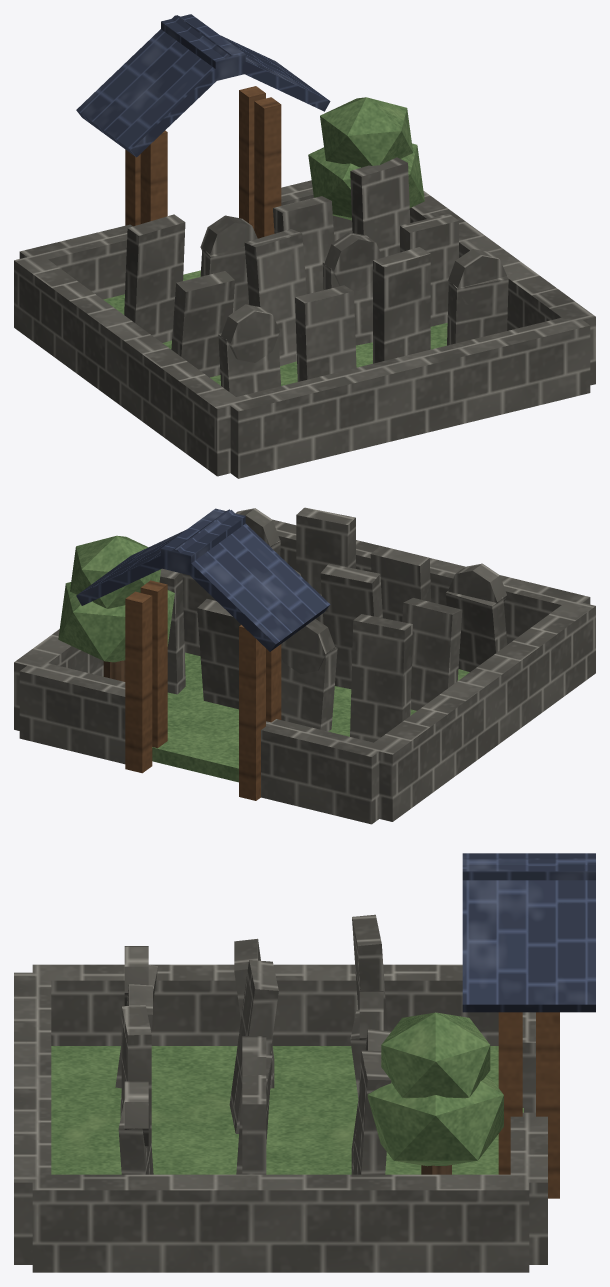
Rendered from cemetery.gltf.
The picture shows the model from 3 angles, top to bottom: view 1: azimuth 30°, elevation 25°; view 2: azimuth 150°, elevation 25°; view 3: azimuth 270°, elevation 25°; orthographic projection. The views are drawn at different scales.
Parts seen in each view (by area): view 1: Cemetery; view 2: Cemetery; view 3: Cemetery.
Part boxes in pixels (left/top/right/bottom): Cemetery: left=14, top=14, right=595, bottom=478; Cemetery: left=14, top=507, right=595, bottom=824; Cemetery: left=14, top=853, right=595, bottom=1272.
Bounding box in the file's own units: 2 × 1.24 × 2.18.
8 materials, 8 textured.
